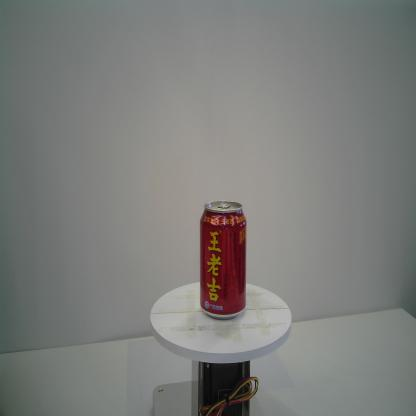Drink: (199, 199, 248, 322)
